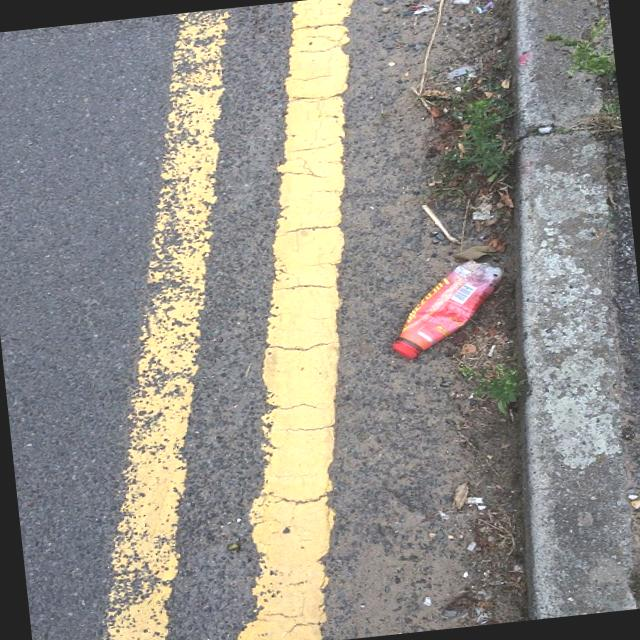Trash: (386, 255, 509, 362)
